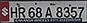character: (9, 5, 17, 18), (44, 6, 52, 18), (27, 6, 35, 17), (55, 6, 63, 17), (18, 6, 25, 18), (63, 5, 70, 17), (70, 6, 77, 18), (35, 6, 42, 17), (77, 6, 84, 17)
